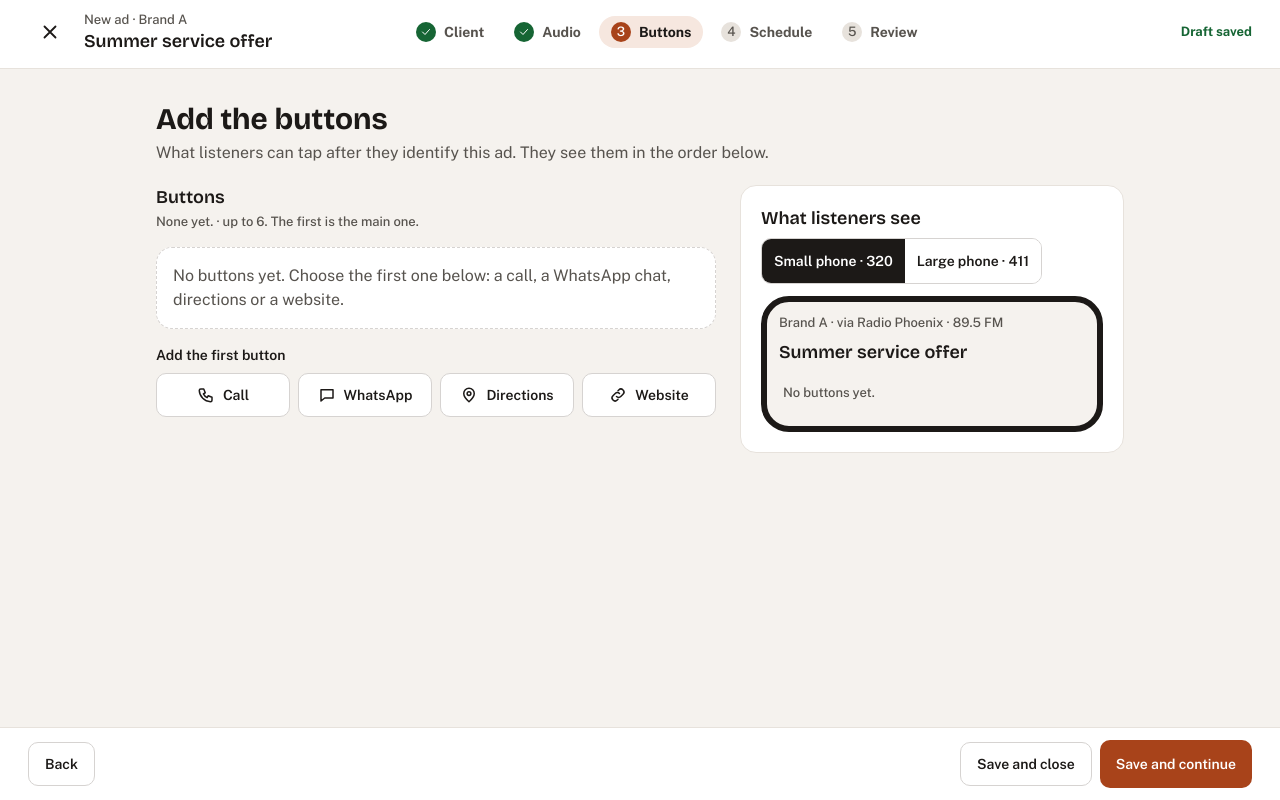
Test: The buttons step › adding and changing a button › leaves a button with a problem out of the preview, saying which, until it is fixed
Expected: the heading "Add the buttons" is shown, [156, 101, 388, 137]
Click the button with aria-label "Add a Call button" at point(223, 395), box [156, 373, 290, 417]
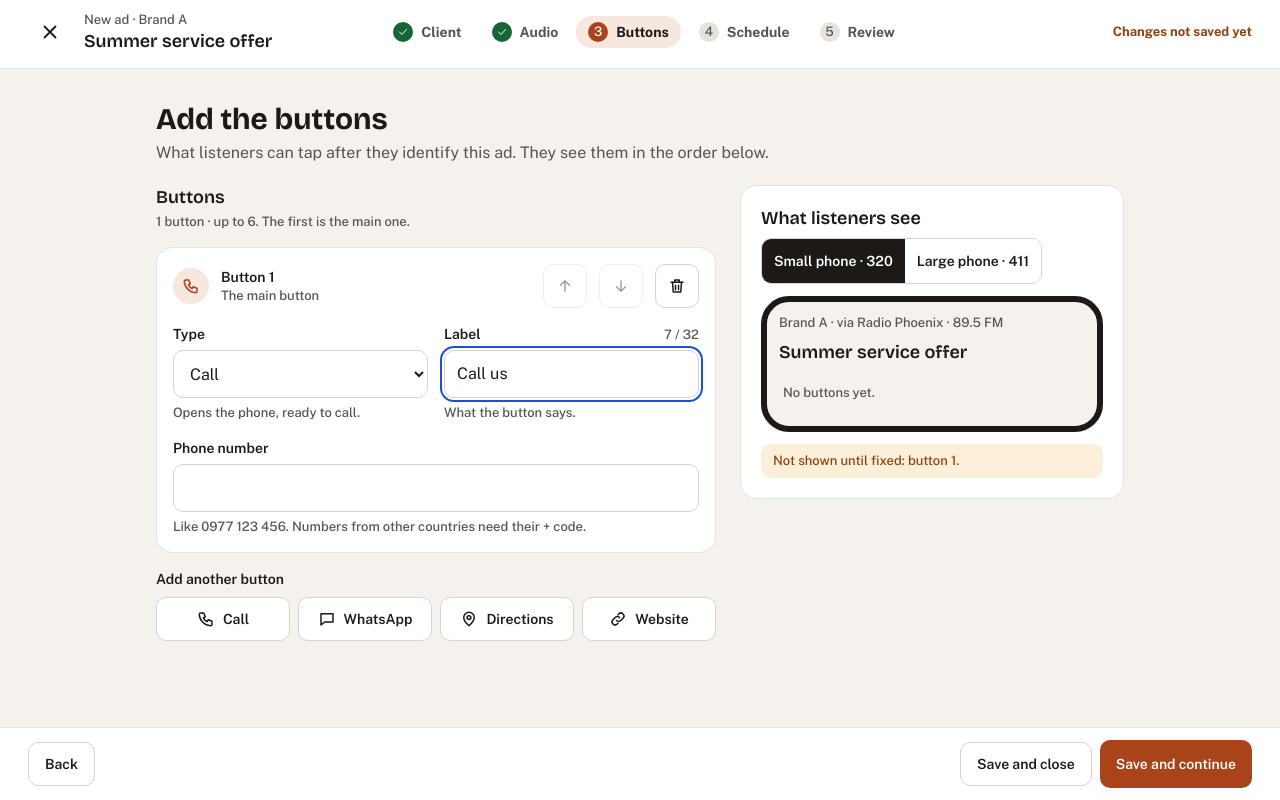
Type "0977123456" into the field labelled "Phone number" at point(436, 488), box [173, 464, 699, 512]
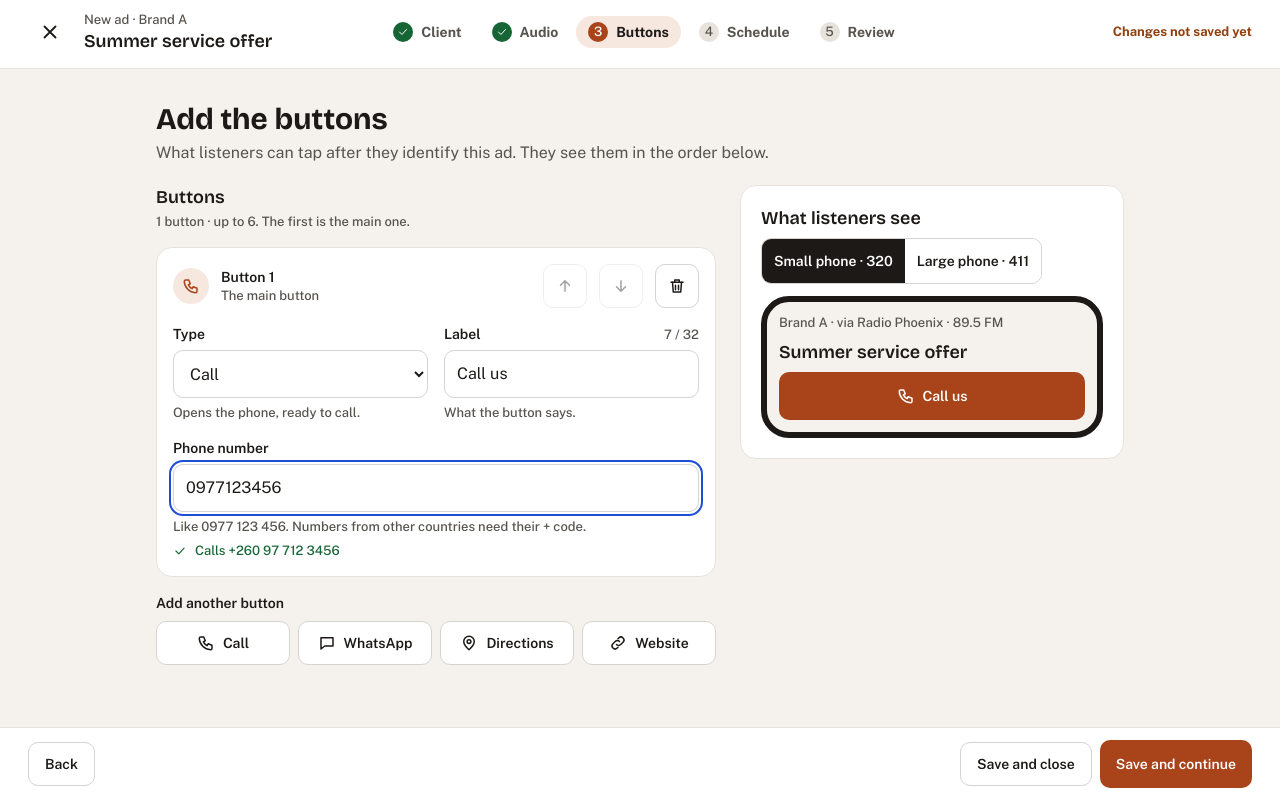
Click the button with aria-label "Add a Website button" at point(649, 643), box [582, 621, 716, 665]
(page scrolled)
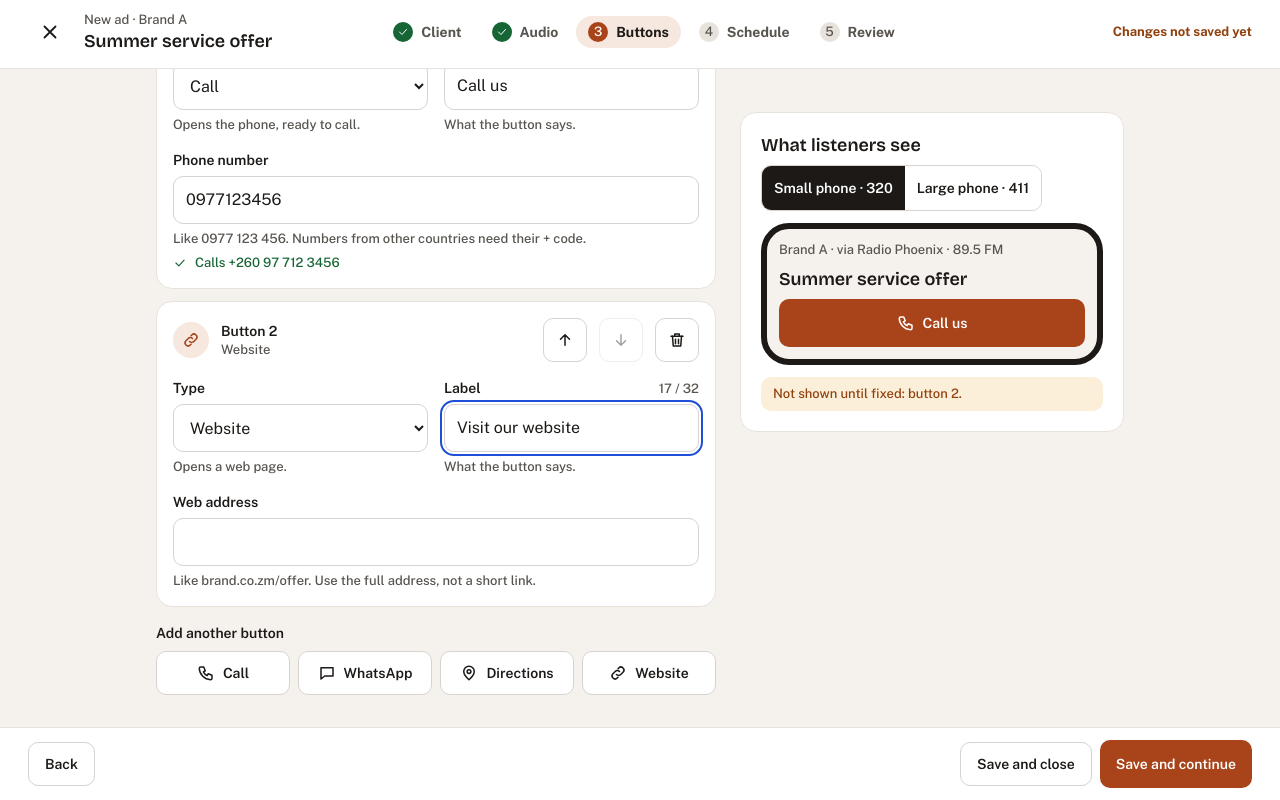
Type "http://brand.co.zm" into the field labelled "Web address" at point(436, 542), box [173, 518, 699, 566]
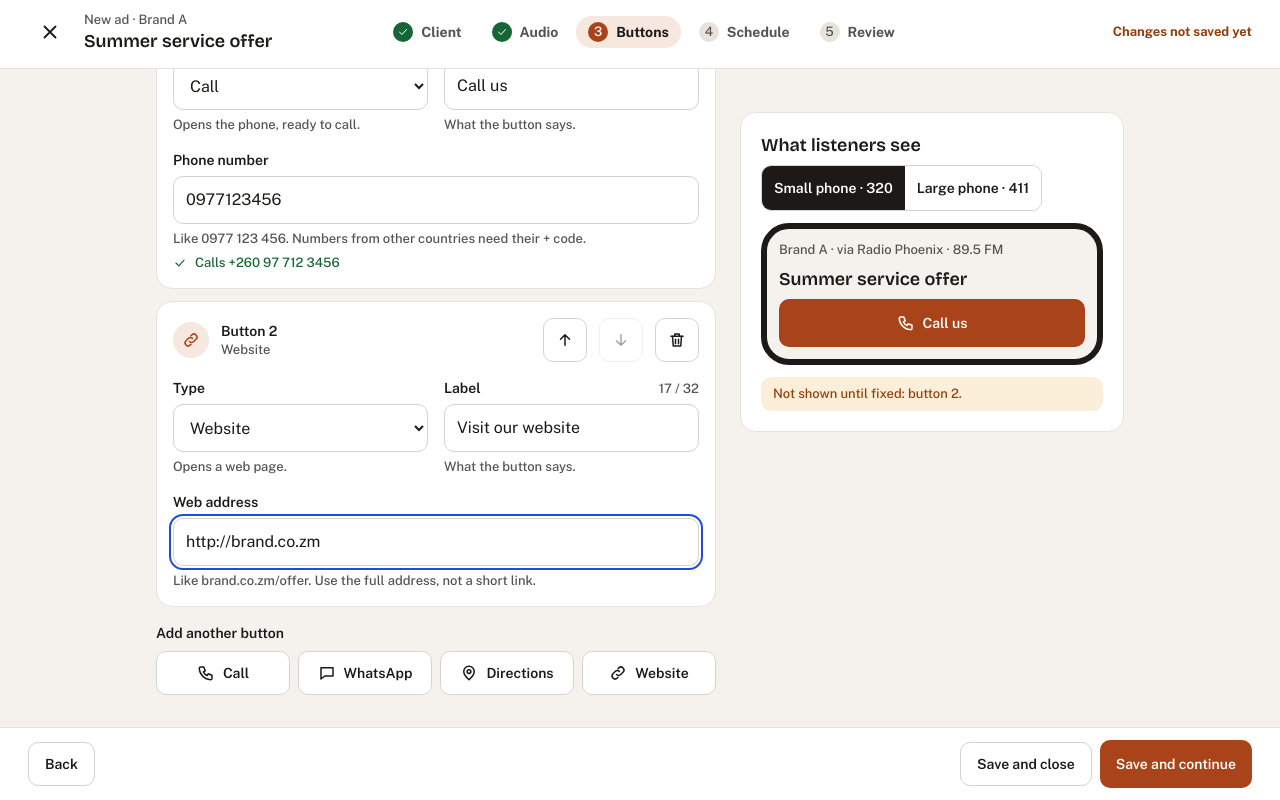
Press Tab
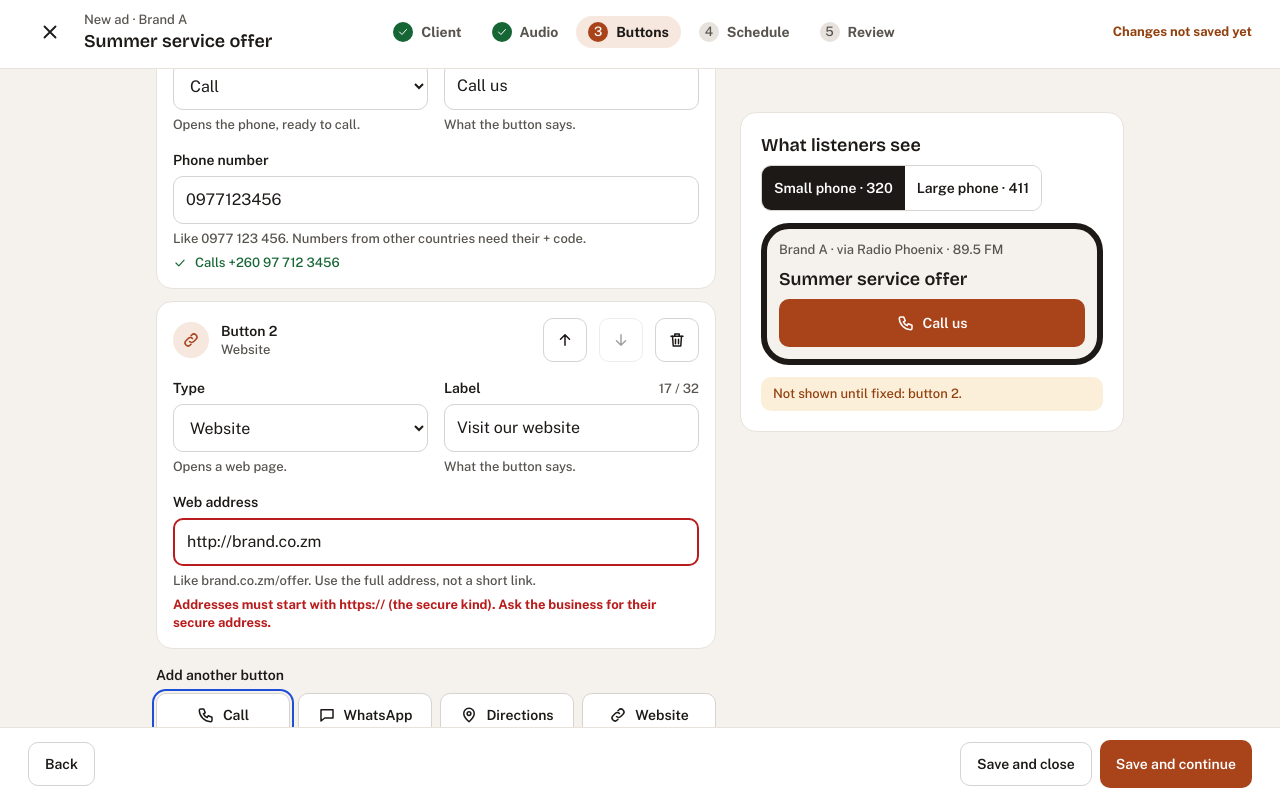
Expected: the text "Call us" is shown, [922, 313, 968, 333]
Expected: the text "Not shown until fixed: button 2." is shown, [761, 377, 1103, 411]
Expected: the text "Addresses must start with https://" is shown, [173, 597, 656, 630]
Replace the text in the field labelled "Web address" with "brand.co.zm/book" at point(436, 542), box [173, 518, 699, 566]
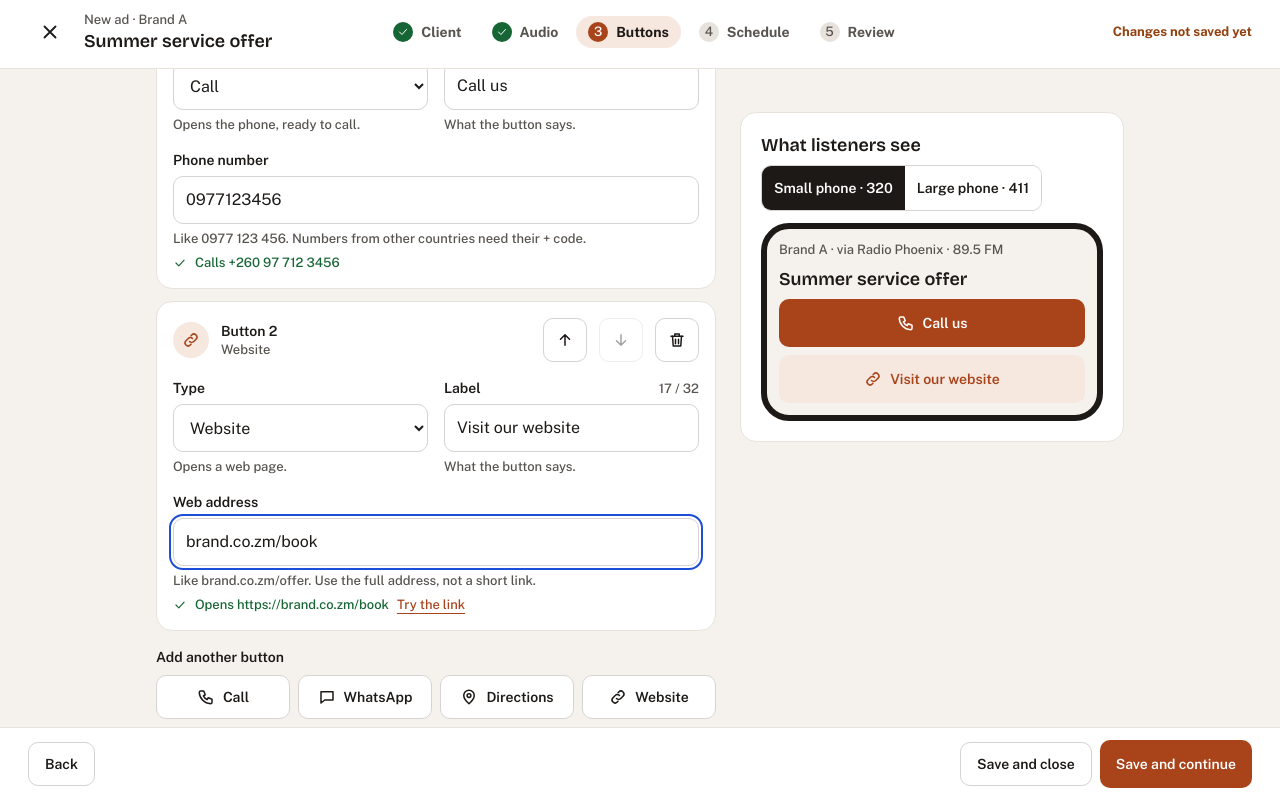
Expected: the text "Visit our website" is shown, [890, 369, 1000, 389]
Expected: the text "Not shown until fixed" is gone
Expected: the text "Opens https://brand.co.zm/book Try the link" is shown, [173, 597, 465, 612]
